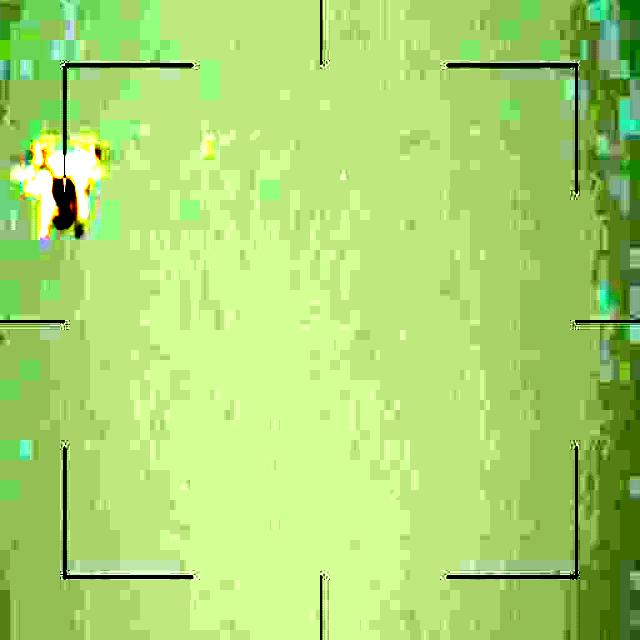bird: (9, 138, 105, 239)
